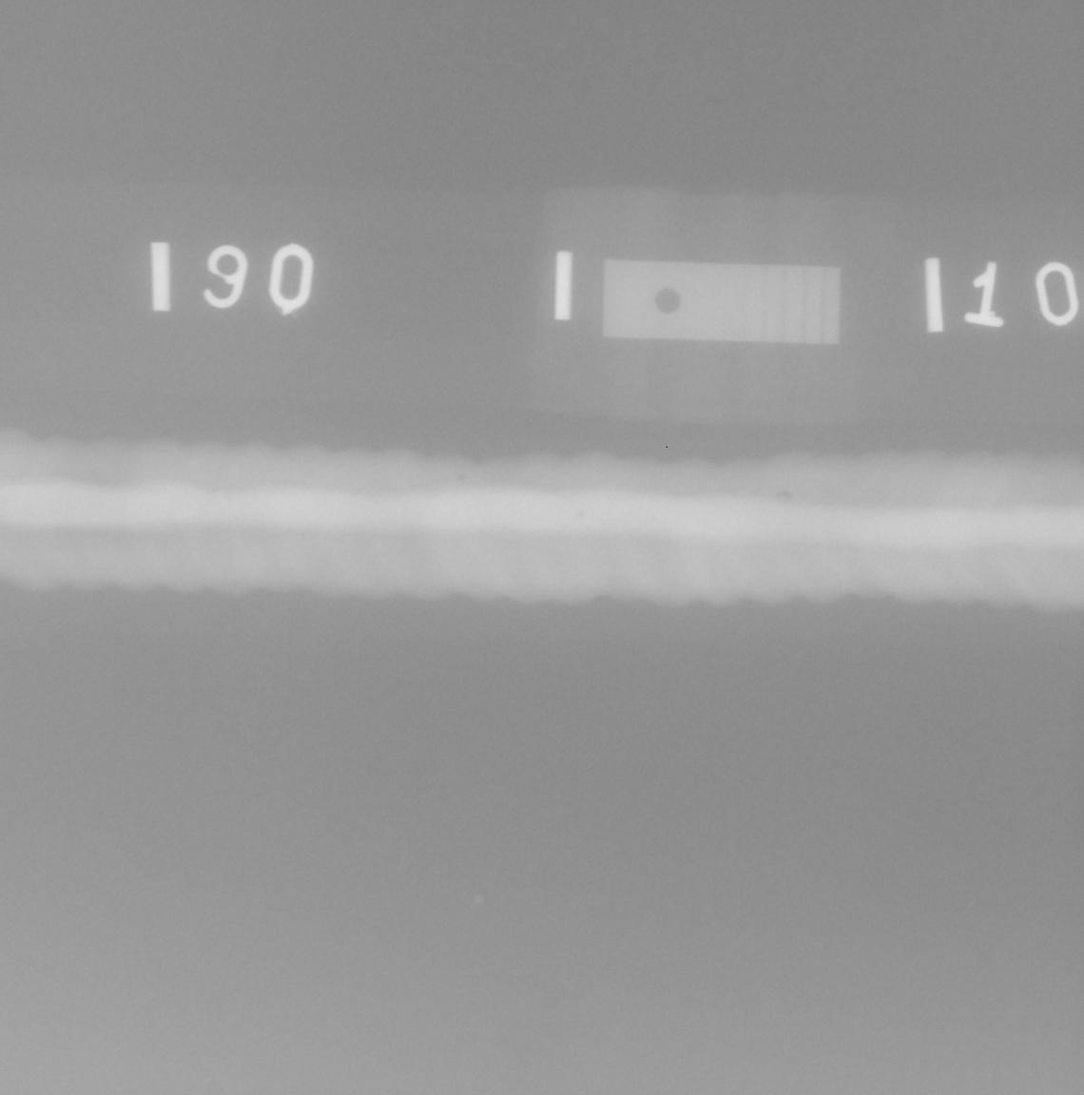Inclusion: (299, 532, 306, 539), (578, 512, 583, 517)
Pore/Porosity: (778, 488, 794, 499), (457, 473, 466, 479), (653, 516, 657, 520)
Reference Standard 1: (602, 259, 840, 344)
